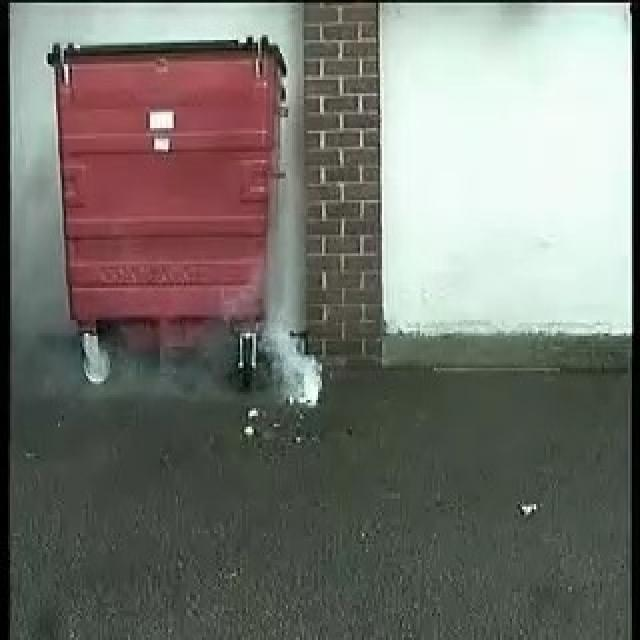smoke: (252, 254, 323, 407)
